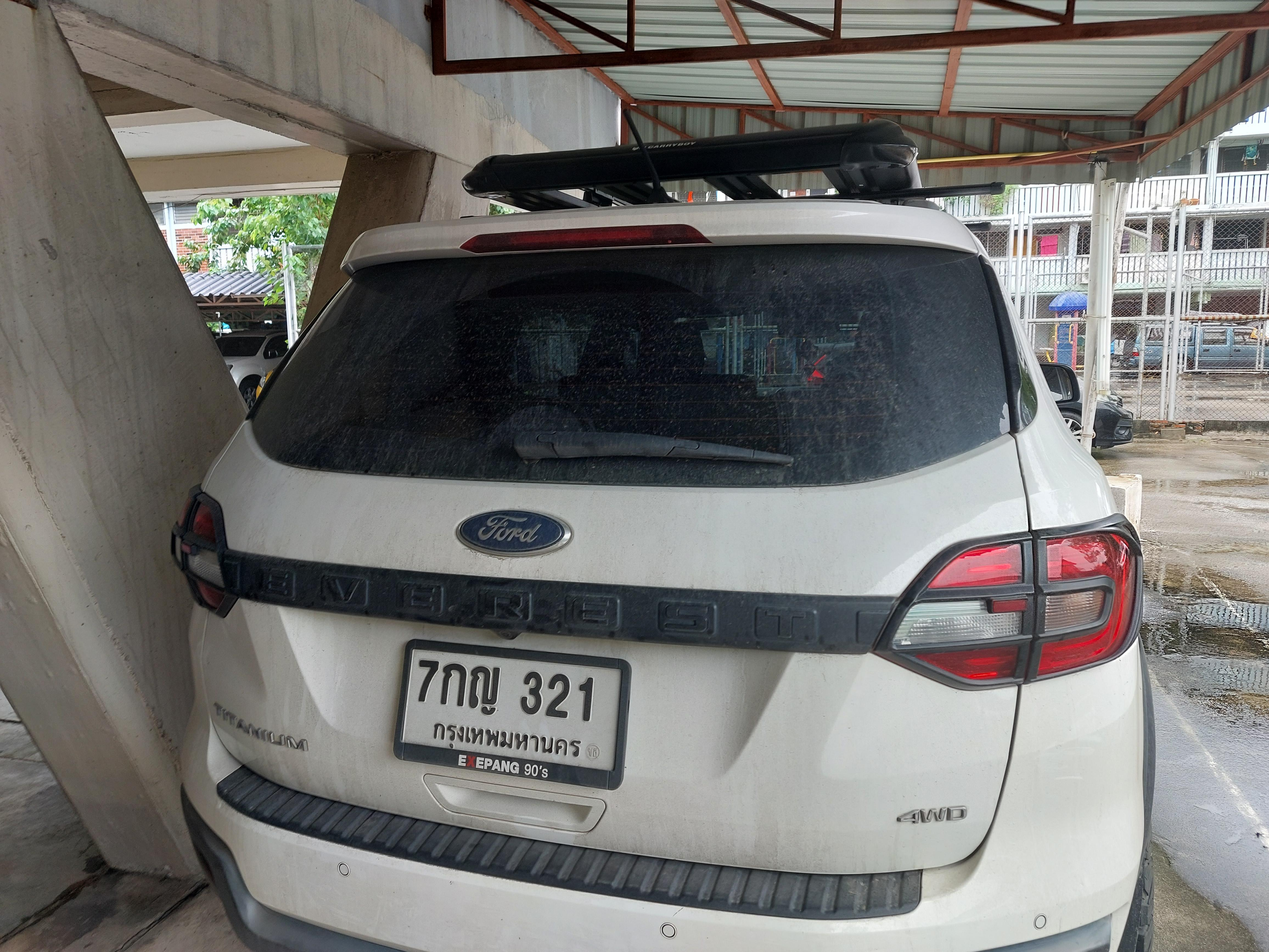license-plate: (389, 637, 632, 793)
